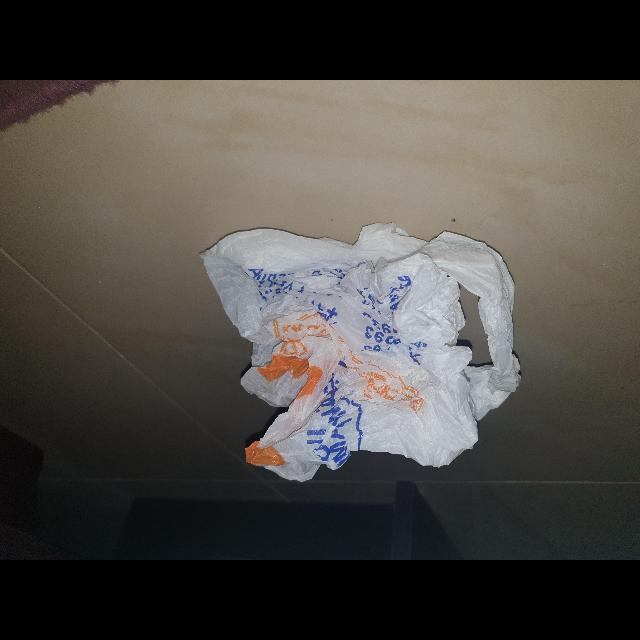sacola plástica: (199, 220, 525, 482)
